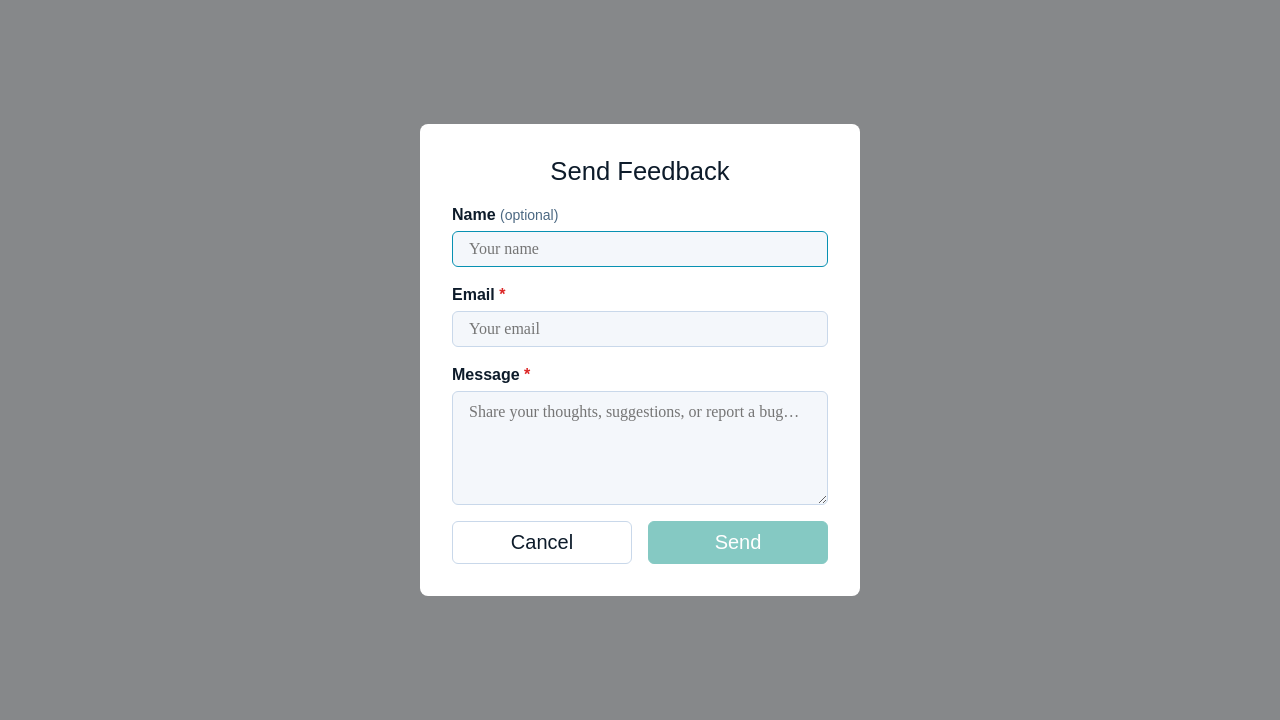
Test: FeedbackModal › Send button is enabled when both email and message are filled
Type "a@b.com" into the field labelled "Email *".
click(640, 330); type("a@b.com")  # box [452, 312, 828, 348]
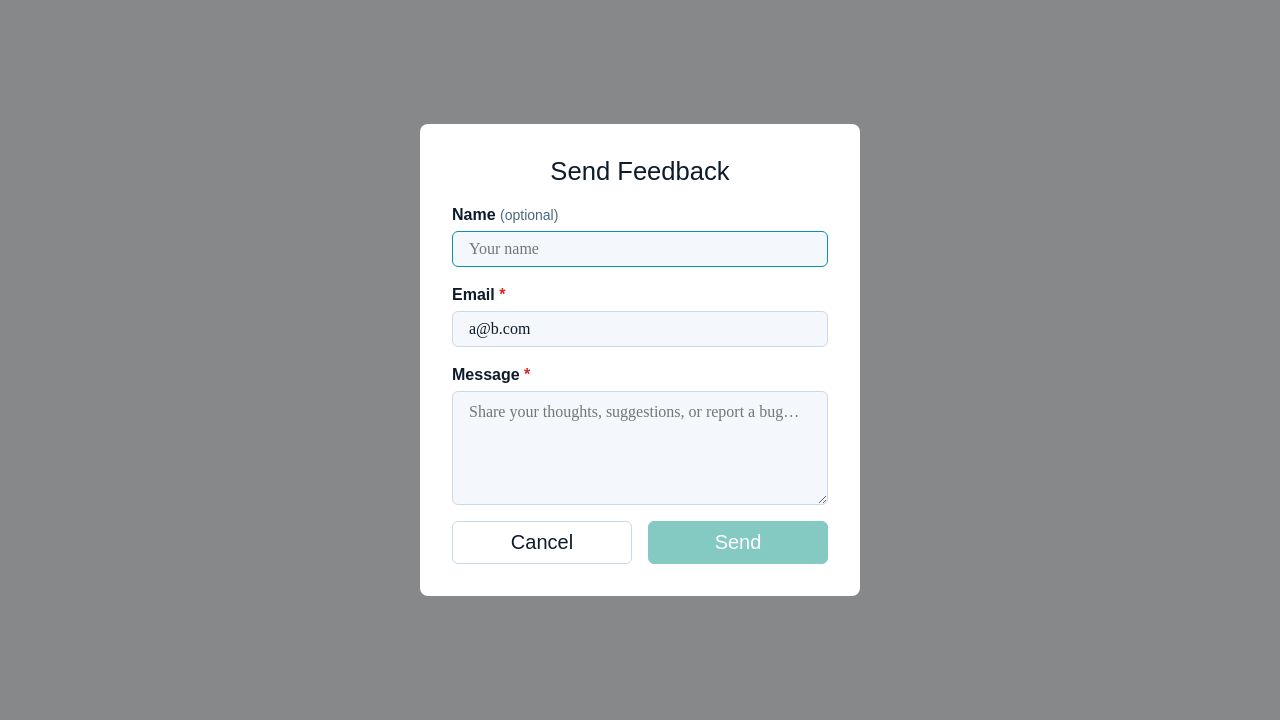
Type "hello" into the text box labelled "Message *".
click(640, 448); type("hello")  # box [452, 392, 828, 506]
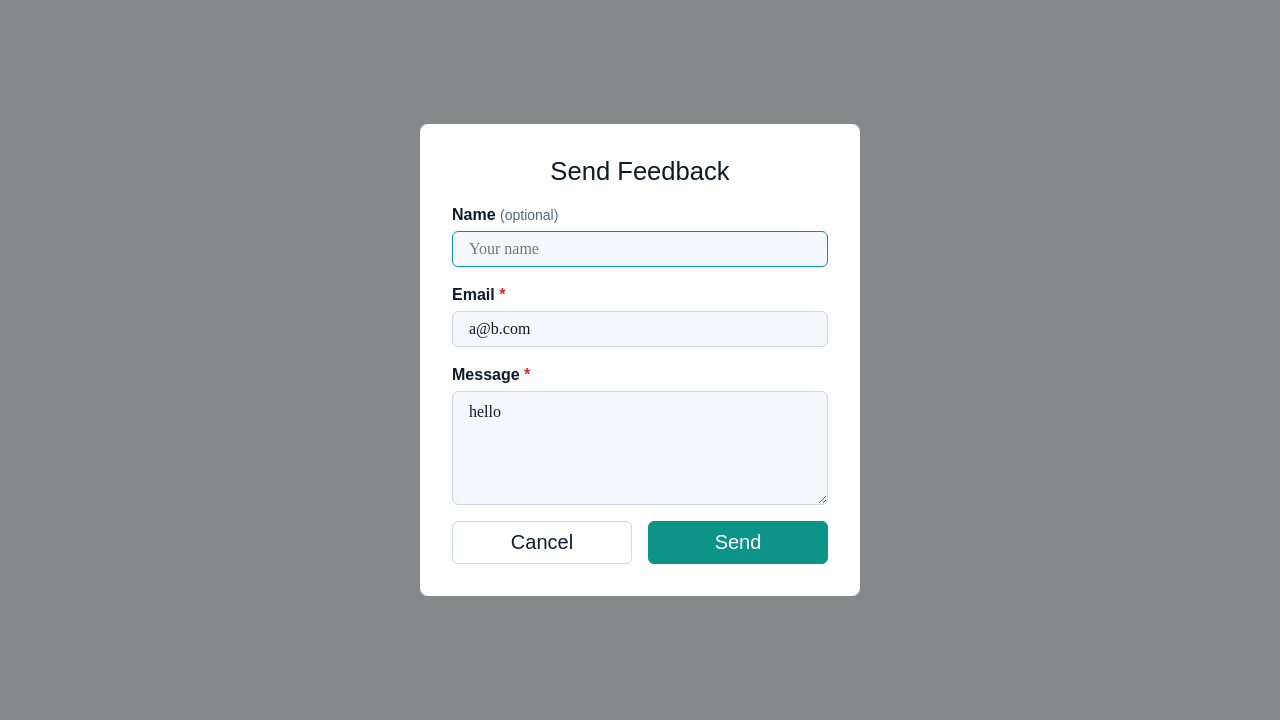
Expected: the button "Send" is enabled, [648, 522, 828, 564]
